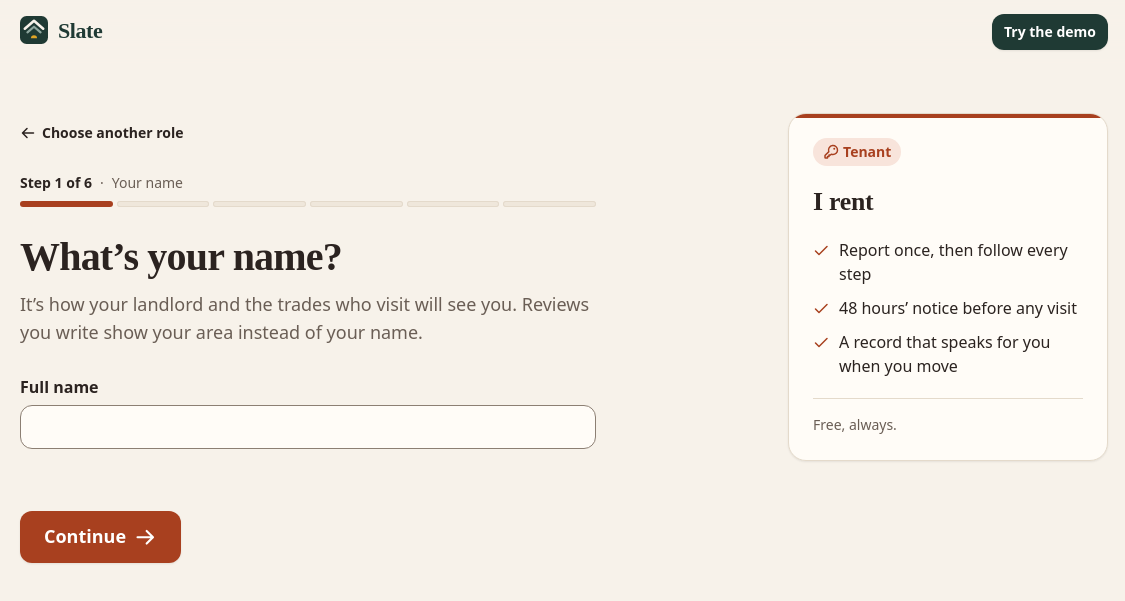
Test: choosing a role › a question left unanswered says what is missing and puts focus on it
This screenshot has width=1125, height=601.
Click the button "Continue": (100, 537) x1=20 y1=511 x2=180 y2=563
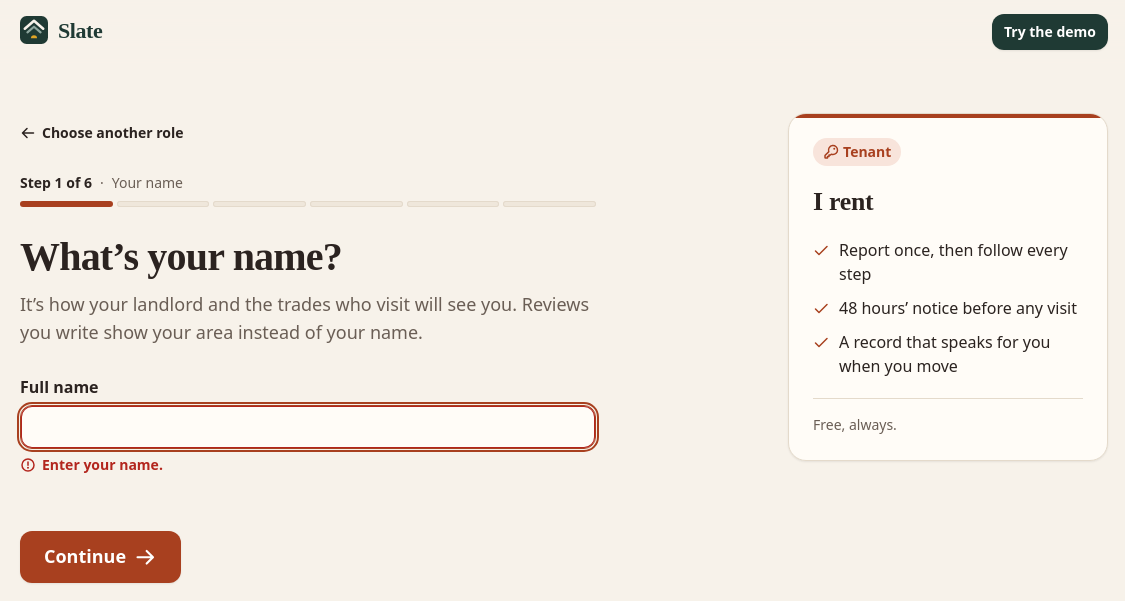
Now the text "Enter your name." is shown, box x1=42 y1=455 x2=163 y2=475
In the field labelled "Full name": (308, 427) x1=21 y1=406 x2=595 y2=448, type "Jamie Duthie"
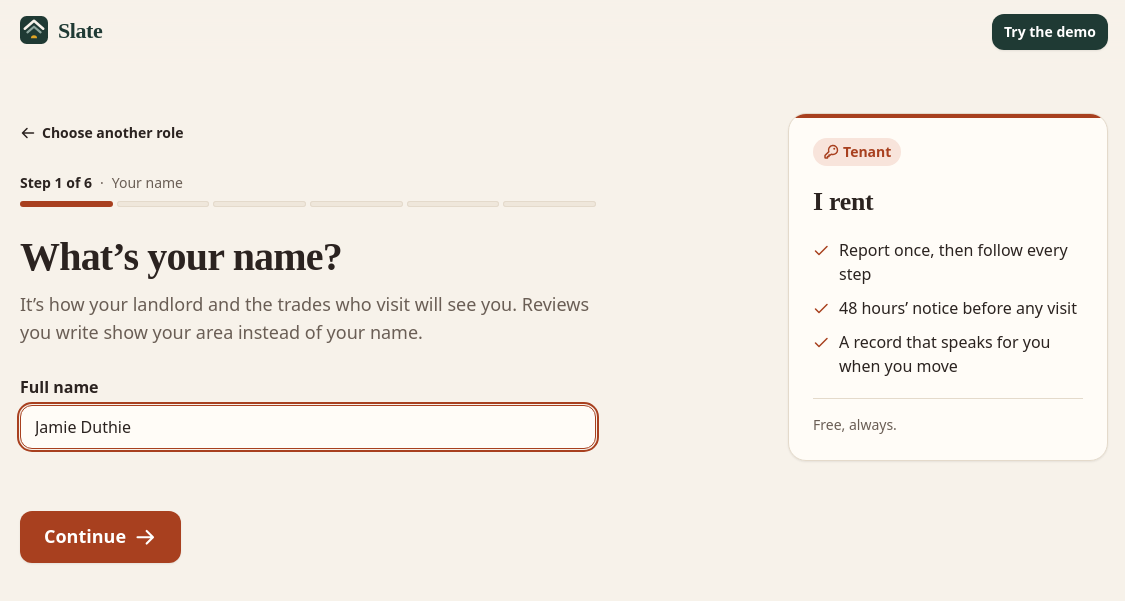
Click the button "Continue": (100, 537) x1=20 y1=511 x2=180 y2=563
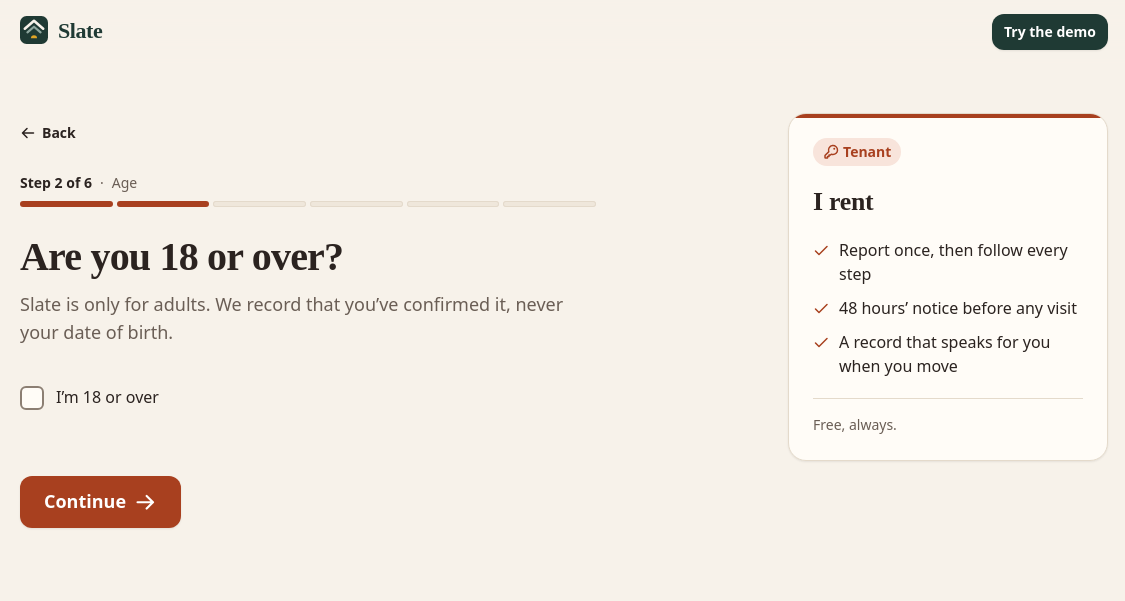
Click the button "Continue": (100, 502) x1=20 y1=476 x2=180 y2=528
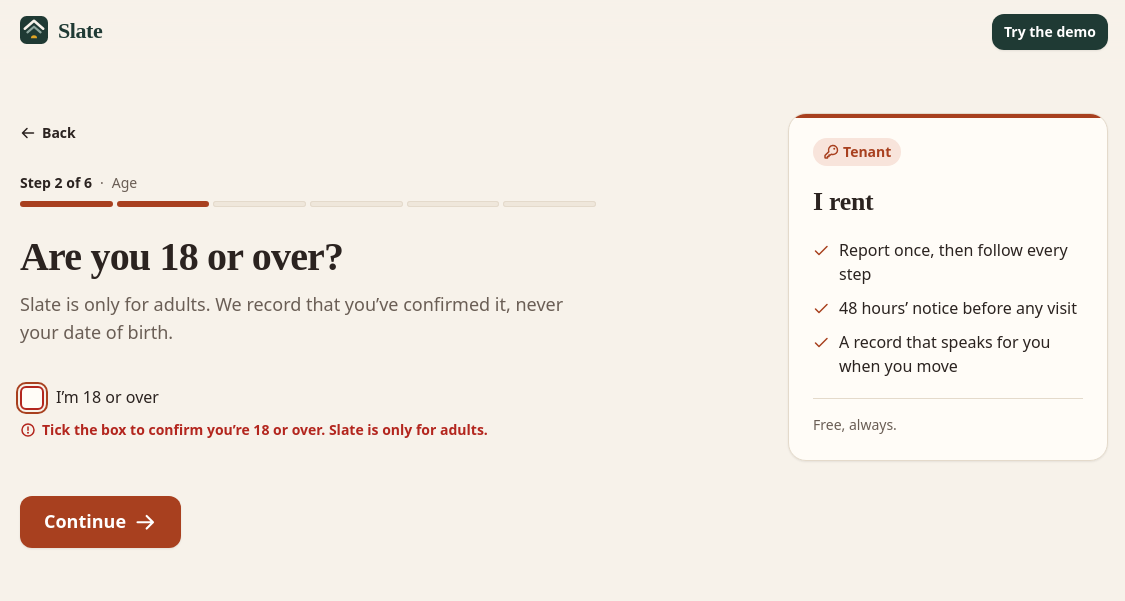
Now the text "Tick the box to confirm you’re 18 or over" is shown, box x1=42 y1=420 x2=488 y2=439
